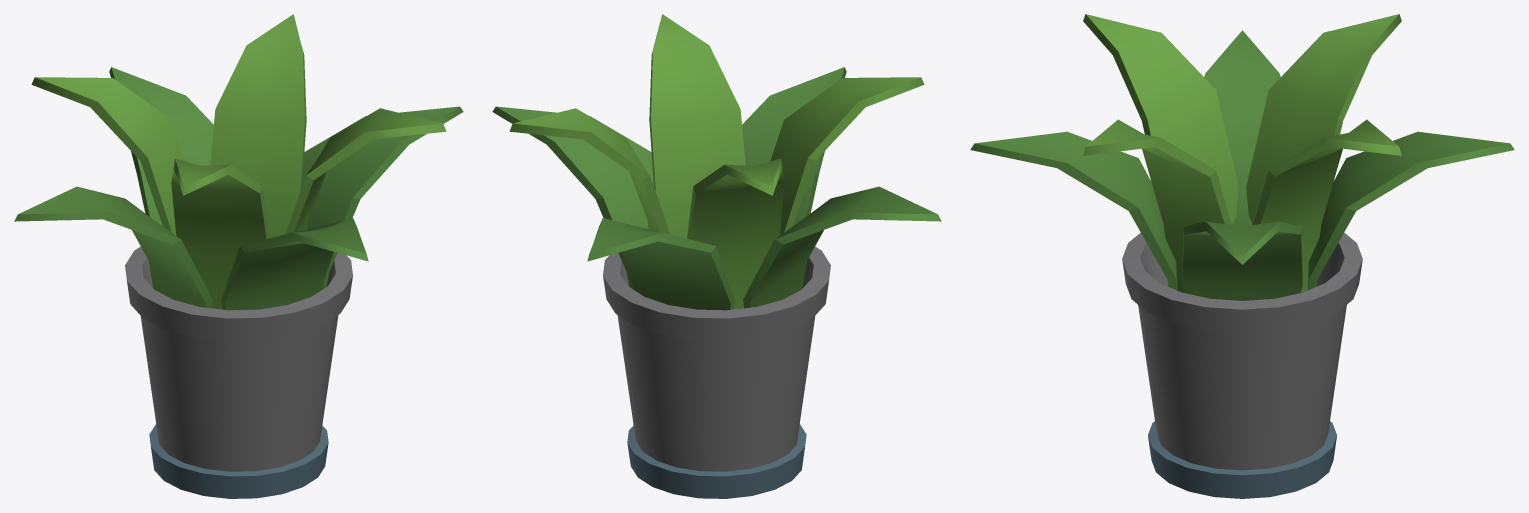
File: Mixed_TablePlant_01.fbx
The picture shows the model from 3 angles, left to right: view 1: azimuth 30°, elevation 25°; view 2: azimuth 150°, elevation 25°; view 3: azimuth 270°, elevation 25°; orthographic projection. The views are drawn at different scales.
Parts seen in each view (by area): view 1: Mixed_TablePlant_01; view 2: Mixed_TablePlant_01; view 3: Mixed_TablePlant_01.
Boxes of the visible parts, x1,y1,x2,y2 form: Mixed_TablePlant_01: (14,14,463,498); Mixed_TablePlant_01: (492,14,941,498); Mixed_TablePlant_01: (970,14,1514,498).
Bounding box in the file's own units: 151 × 116 × 151.
